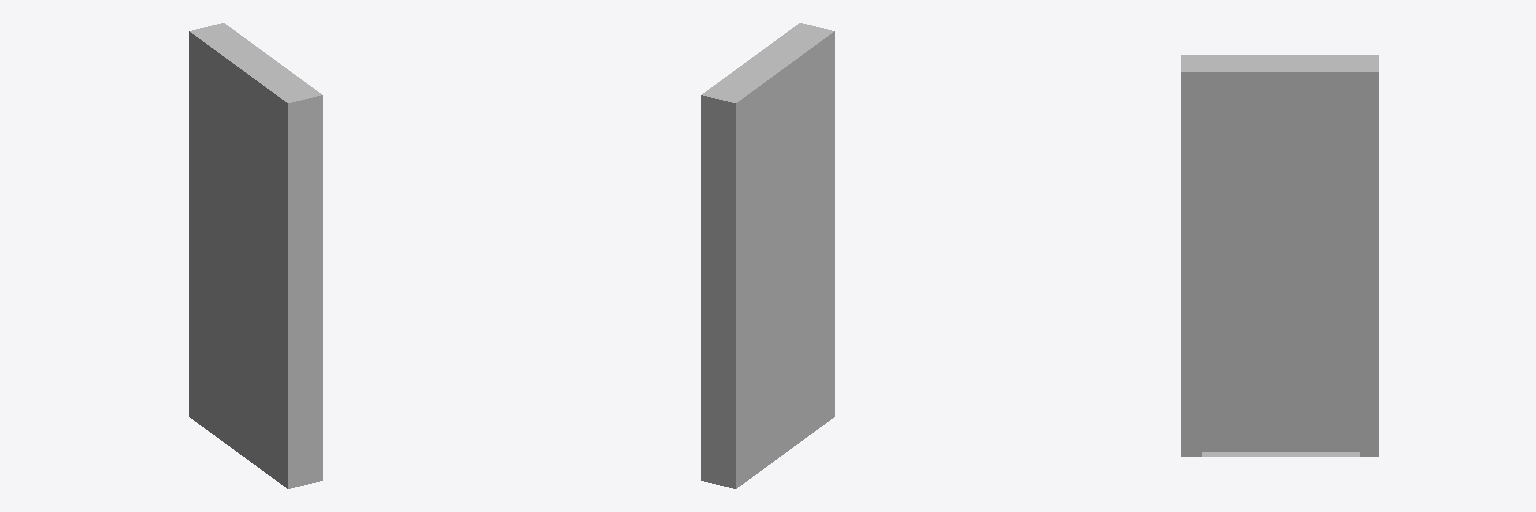
Rendered from puertaAcocina.obj.
3 views of the same model, side by side, from view 1: azimuth 30°, elevation 25°; view 2: azimuth 150°, elevation 25°; view 3: azimuth 270°, elevation 25° (orthographic).
Visible parts, largest first — view 1: pasted__pCube22 group65; view 2: pasted__pCube22 group65; view 3: pasted__pCube22 group65.
Part boxes in pixels (x1,y1,x2,y2): pasted__pCube22 group65: (189, 23, 322, 488); pasted__pCube22 group65: (701, 23, 834, 488); pasted__pCube22 group65: (1181, 55, 1378, 456).
Bounding box in the file's own units: 0.1912 × 2.02 × 0.9405.